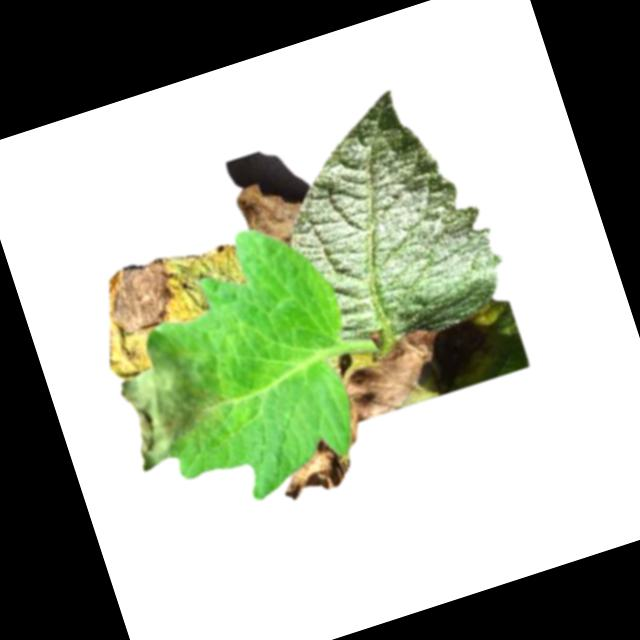Late_blight: (78, 229, 265, 383), (101, 322, 232, 475), (320, 322, 461, 447), (231, 172, 311, 258), (268, 432, 356, 505)
healthy: (252, 71, 518, 364)
